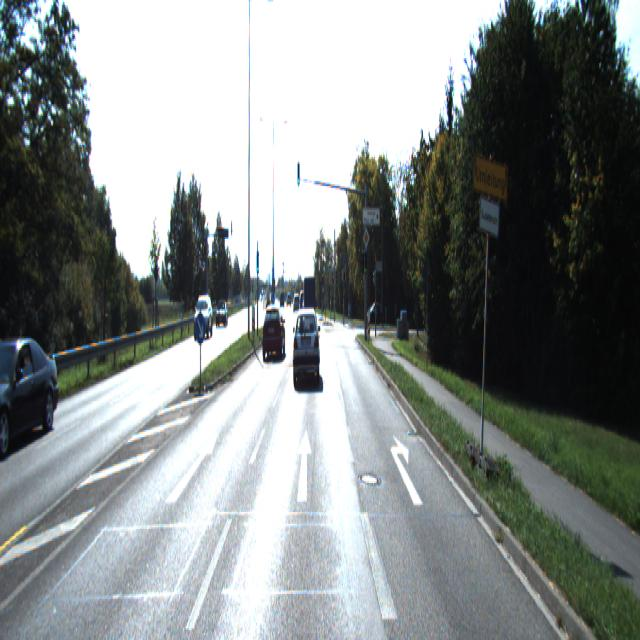Car: (0, 335, 63, 459), (293, 312, 320, 386), (262, 304, 285, 360), (194, 295, 213, 338), (303, 275, 316, 333), (215, 299, 228, 327)
